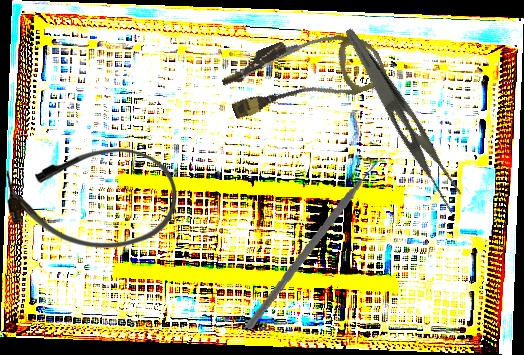Cannula: (216, 10, 390, 138), (5, 148, 178, 248)
Chopper: (243, 147, 398, 343)
Dressing Forceps: (325, 26, 476, 216)
